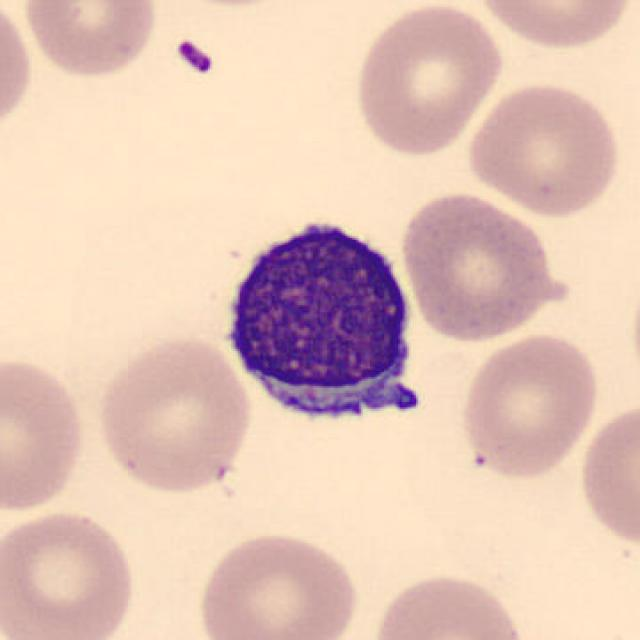Lymphocyte: (212, 203, 430, 444)
Platelets: (172, 37, 218, 78)
RBC: (91, 332, 254, 497), (397, 188, 567, 346), (348, 0, 506, 159), (462, 78, 624, 218), (457, 330, 601, 481), (194, 527, 362, 640), (0, 504, 139, 640), (0, 351, 91, 518), (368, 567, 530, 640), (20, 0, 162, 81), (574, 397, 640, 550), (469, 0, 636, 53), (0, 2, 36, 141)
